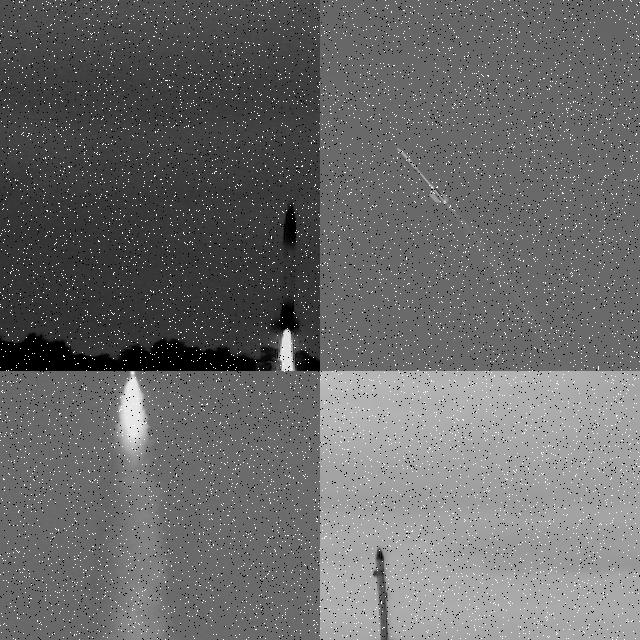Rocket: (276, 199, 302, 331), (367, 546, 403, 640), (396, 147, 450, 205)
